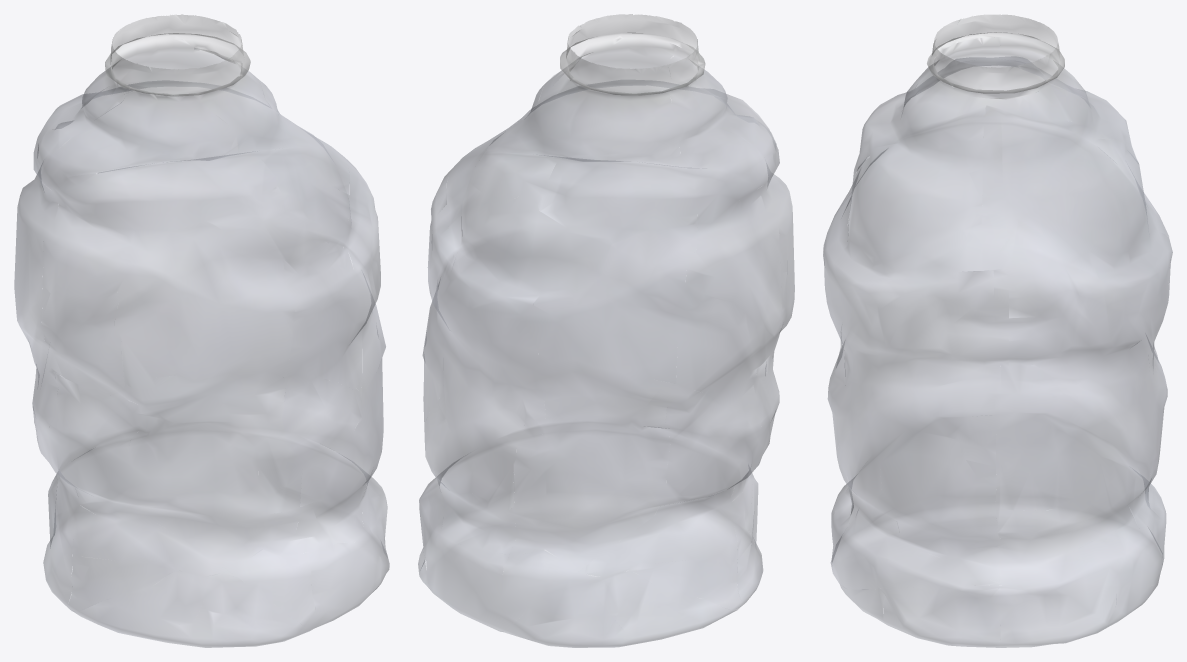
The model's file is 07_3_nj_et_cc_l_trs-opt-v37.glb.
3 views of the same model, side by side, from view 1: azimuth 30°, elevation 25°; view 2: azimuth 150°, elevation 25°; view 3: azimuth 270°, elevation 25° (orthographic). The views are drawn at different scales.
Parts seen in each view (by area): view 1: tripo_material_373b0c34-68a8-413f-8876-a308a7c492da.006; view 2: tripo_material_373b0c34-68a8-413f-8876-a308a7c492da.006; view 3: tripo_material_373b0c34-68a8-413f-8876-a308a7c492da.006.
Boxes of the visible parts, x1,y1,x2,y2 form: tripo_material_373b0c34-68a8-413f-8876-a308a7c492da.006: (14,14,389,647); tripo_material_373b0c34-68a8-413f-8876-a308a7c492da.006: (418,14,794,647); tripo_material_373b0c34-68a8-413f-8876-a308a7c492da.006: (823,14,1172,647).
Bounding box in the file's own units: 0.1995 × 0.31 × 0.1876.
1 material, 1 textured.
